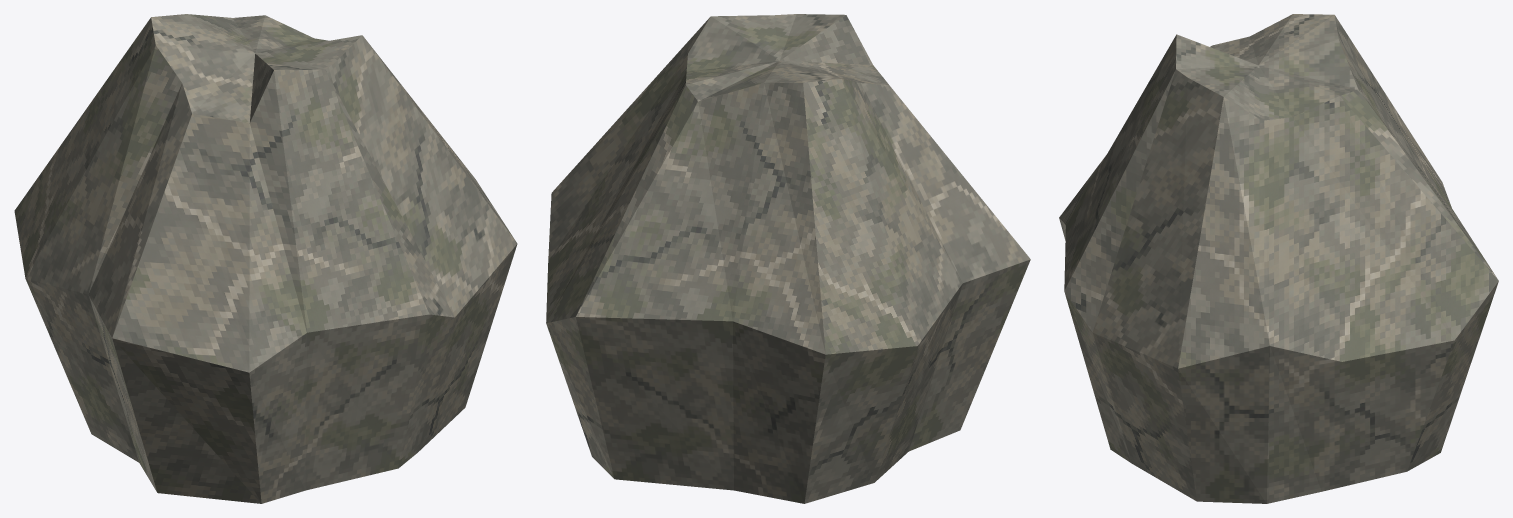
File: Masso_07_Arrotondato.obj
3 views of the same model, side by side, from view 1: azimuth 30°, elevation 25°; view 2: azimuth 150°, elevation 25°; view 3: azimuth 270°, elevation 25° (orthographic). The views are drawn at different scales.
Parts seen in each view (by area): view 1: Masso_07_Arrotondato; view 2: Masso_07_Arrotondato; view 3: Masso_07_Arrotondato.
Part boxes in pixels (x1,y1,x2,y2): Masso_07_Arrotondato: (14, 14, 517, 503); Masso_07_Arrotondato: (546, 14, 1030, 503); Masso_07_Arrotondato: (1059, 14, 1498, 503).
Bounding box in the file's own units: 1.8 × 1.6 × 1.7.
